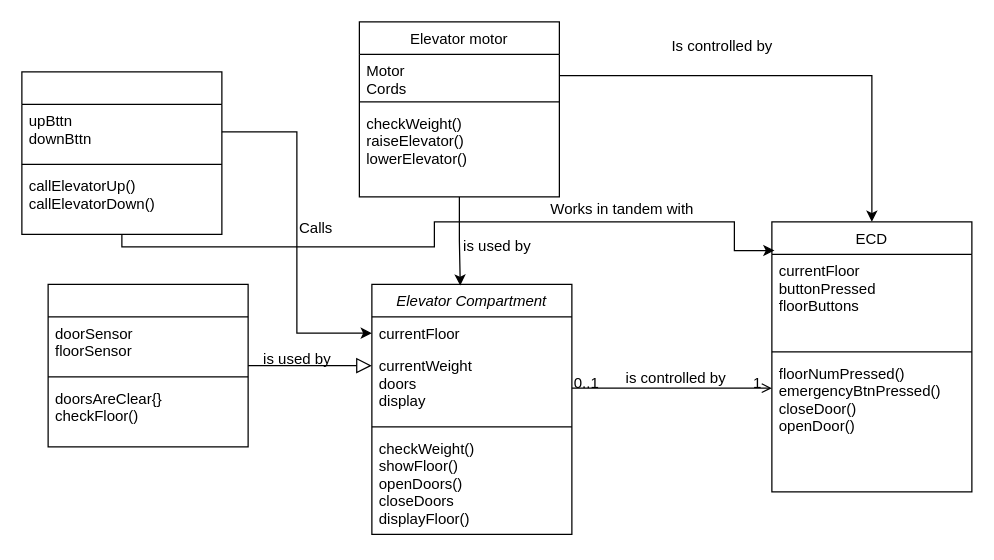
This 994x560 diagram has some shape labels left out. Each missing label, with the box of its shape:
CallButtons: (21, 71, 222, 234)
sensors: (47, 283, 248, 447)
